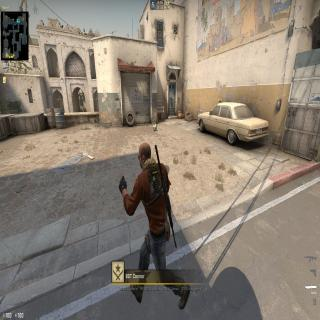T-Head: (137, 140, 152, 171)
